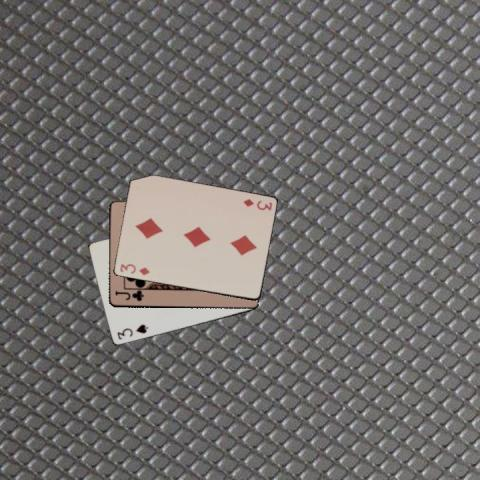3d: (117, 260, 150, 276), (240, 196, 273, 212)
3s: (114, 322, 149, 342)
Jc: (112, 289, 145, 303)
